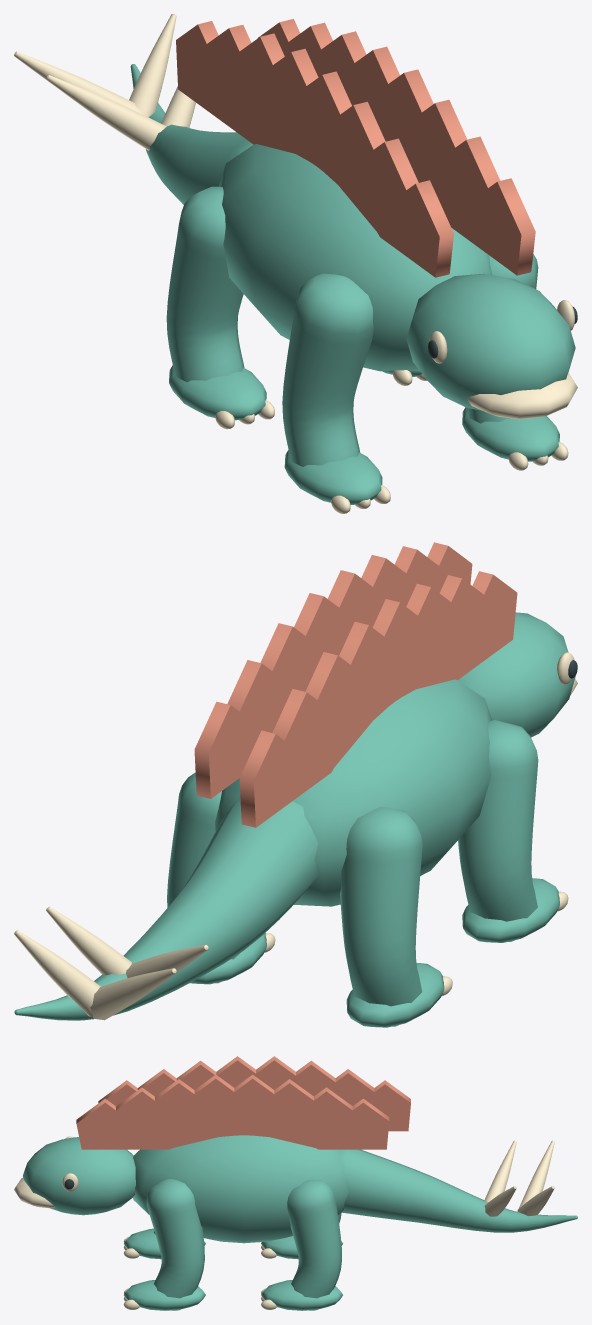
The model's file is lost-valley-dinosaurs-stegosaurus-b69c643e__1657.glb.
3 renders of one model, top to bottom at view 1: azimuth 30°, elevation 25°; view 2: azimuth 150°, elevation 25°; view 3: azimuth 270°, elevation 25°, orthographic. The views are drawn at different scales.
Visible parts, largest first — view 1: stegosaurus; view 2: stegosaurus; view 3: stegosaurus.
Part boxes in pixels (x1,y1,x2,y2): stegosaurus: [14, 14, 577, 513]; stegosaurus: [14, 542, 577, 1027]; stegosaurus: [14, 1056, 577, 1310].
Bounding box in the file's own units: 1.58 × 2.19 × 5.2.
